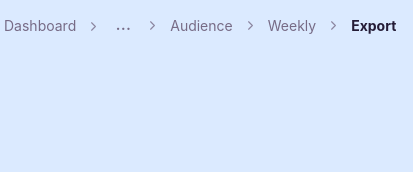
Breadcrumbs › opens on hover and restores ellipsis focus after Escape
This screenshot has width=413, height=172.
Step 1. Hover over the list item with class "breadcrumbs__desktop-ellipsis" → [111, 26], box [86,14,135,38]
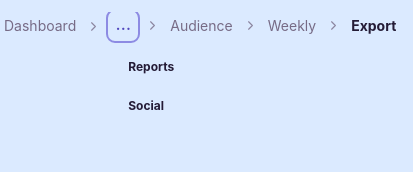
Check: the button named "Show hidden breadcrumb items" is expanded, box [111,14,135,38]
Step 2. Press Escape
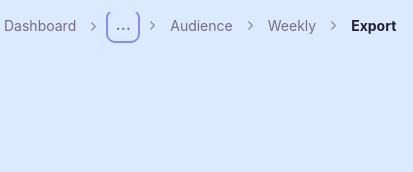
Check: the button named "Show hidden breadcrumb items" is collapsed, box [111,14,135,38]
